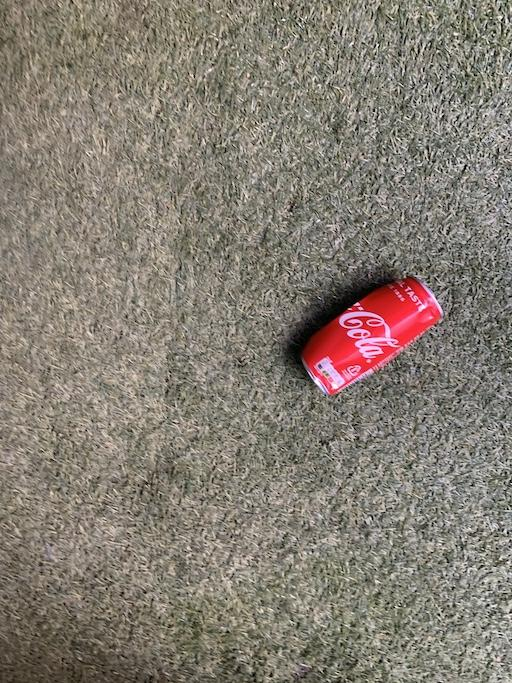Aluminum can: (275, 249, 450, 408)
